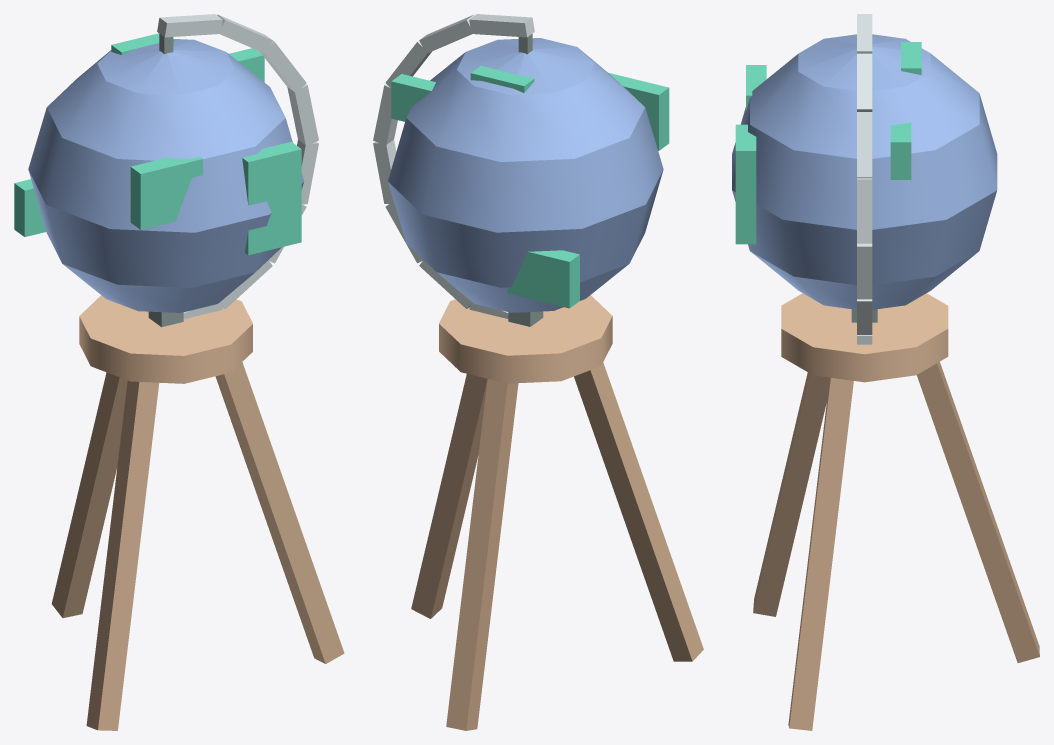
Rendered from globeFloor.glb.
The picture shows the model from 3 angles, left to right: view 1: azimuth 30°, elevation 25°; view 2: azimuth 150°, elevation 25°; view 3: azimuth 270°, elevation 25°; orthographic projection.
Visible parts, largest first — view 1: globeFloor; view 2: globeFloor; view 3: globeFloor.
Boxes of the visible parts, x1,y1,x2,y2 form: globeFloor: [14, 14, 344, 730]; globeFloor: [373, 14, 703, 730]; globeFloor: [732, 14, 1039, 730].
Size of the model in its own units: 0.3059 by 0.6971 by 0.298.
